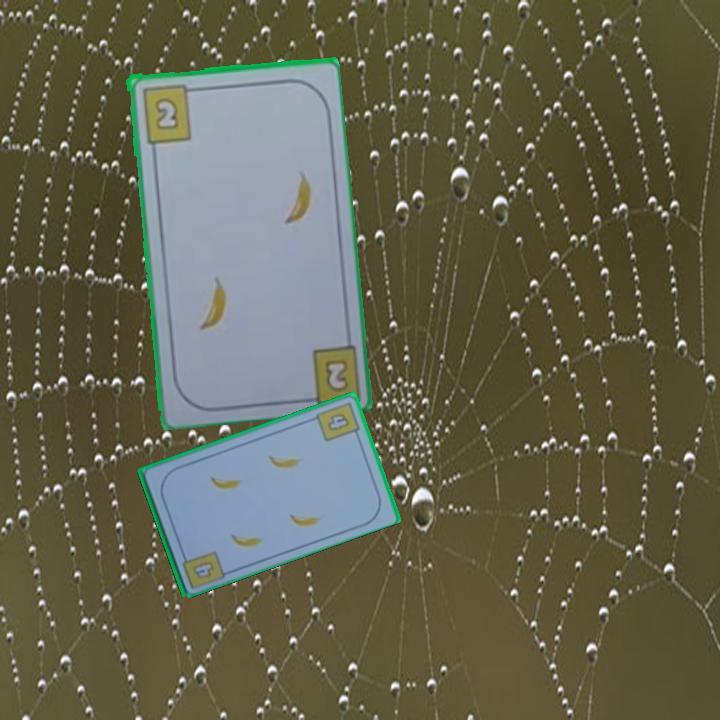2b: (138, 80, 200, 145), (321, 355, 351, 395)
4b: (312, 398, 363, 444), (189, 557, 217, 581)
